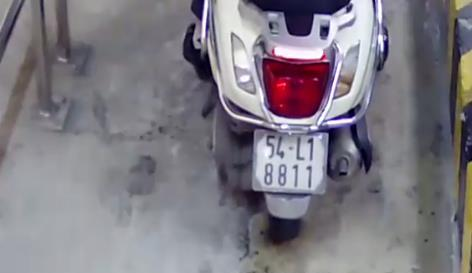lisence: (254, 129, 328, 196)
